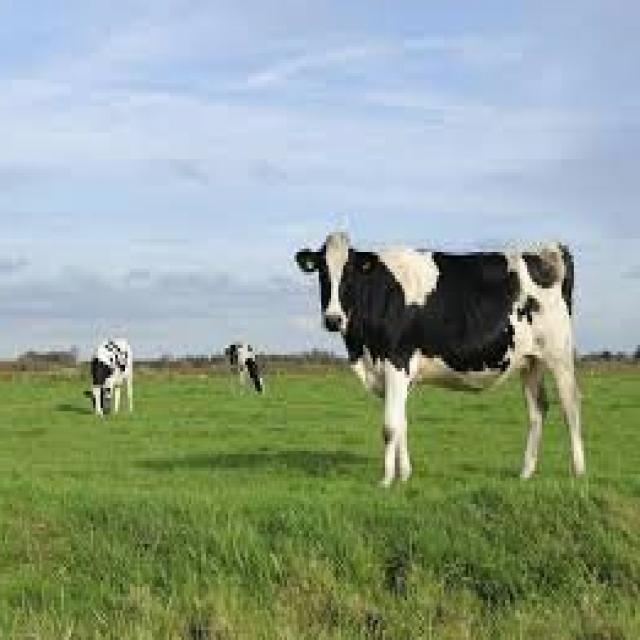cow: (297, 232, 586, 484), (88, 338, 132, 415)
